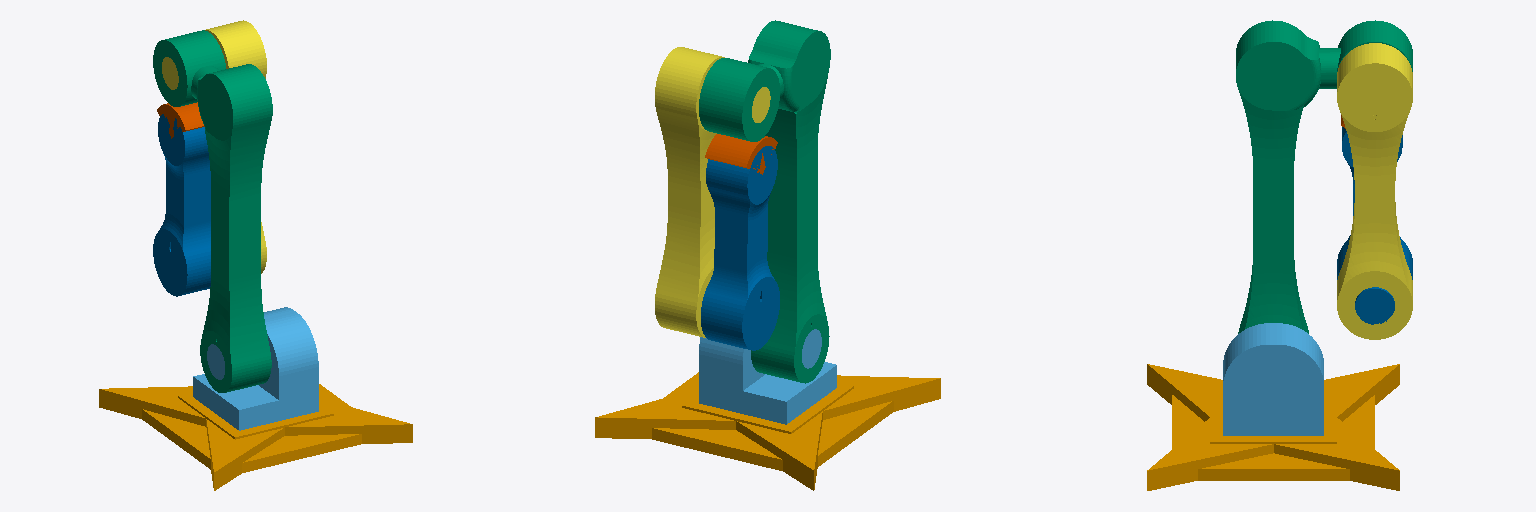
robot.urdf — arm_4dof:
<?xml version="1.0"?>
<robot name="arm_4dof">

  <!-- ================= BASE ================= -->
  <link name="base">
    <visual>
      <geometry>
        <mesh filename="4_dof_meshes/base.stl" scale="0.01 0.01 0.01"/>
      </geometry>
    </visual>

    <collision>
      <origin xyz="0.0 0.0 0.0" rpy="0 0 0"/>
      <geometry>
        <box size="3.0 3.0 0.08"/>
      </geometry>
    </collision>
  </link>

  <!-- Base → Shoulder (Yaw around Z) -->
  <joint name="joint1_base_yaw" type="revolute">
    <parent link="base"/>
    <child link="shoulder"/>
    <origin xyz="0 0 0.0" rpy="0 0 0"/>
    <axis xyz="0 0 1"/>
    <limit lower="-3.14" upper="3.14" effort="10" velocity="1"/>
  </joint>

   <!-- ================= SHOULDER ================= -->
  <link name="shoulder">
    <visual>
      <geometry>
        <mesh filename="4_dof_meshes/shoulder.stl" scale="0.01 0.01 0.01"/>
      </geometry>
    </visual>

    <collision>
      <origin xyz="0.128 0 0.25" rpy="0 0 0"/>
      <geometry>
        <box size="0.2 0.35 0.37"/>
      </geometry>
    </collision>
  </link>



  <!-- Shoulder → Arm (Pitch around X) -->
  <joint name="joint2_shoulder_pitch" type="revolute">
    <parent link="shoulder"/>
    <child link="arm"/>
    <origin xyz="0 0 0.35" rpy="0 0 0"/>
    <axis xyz="1 0 0"/>
    <limit lower="-1.57" upper="1.57" effort="10" velocity="1"/>
  </joint>

  <!-- ================= ARM ================= -->
  <link name="arm">
    <visual>
      <geometry>
        <mesh filename="4_dof_meshes/arm_trans.stl" scale="0.01 0.01 0.01"/>
      </geometry>
    </visual>

    <collision>
      <origin xyz="-0.128 0 0.65"/>
      <geometry>
        <box size="0.125 0.16 1.5"/>
      </geometry>
    </collision>
  </link>



  <!-- Arm → Forearm (Pitch around X) -->
  <joint name="joint3_elbow_pitch" type="revolute">
    <parent link="arm"/>
    <child link="forearm"/>
    <origin xyz="0 0.4 1.225" rpy="0 0 0"/>
    <axis xyz="1 0 0"/>
    <limit lower="-3.14" upper="3.14" effort="10" velocity="1"/>
  </joint>

  <!-- ================= FOREARM ================= -->
  <link name="forearm">
    <visual>
      <geometry>
        <mesh filename="4_dof_meshes/forearm_trans.stl" scale="0.01 0.01 0.01"/>
      </geometry>
    </visual>

    <collision>
      <origin xyz="0.128 0.0 -0.43" rpy="0 0 0"/>
      <geometry>
        <box size="0.1 0.25 1.15"/>
      </geometry>
    </collision>
  </link>



  <!-- Forearm → Wrist (Pitch around X) -->
  <joint name="joint4_wrist_pitch" type="revolute">
    <parent link="forearm"/>
    <child link="wrist"/>
    <origin xyz="0 0 -0.91" rpy="0 0 0"/>
    <axis xyz="1 0 0"/>
    <limit lower="-1.57" upper="1.57" effort="10" velocity="1"/>
  </joint>

  <!-- ================= WRIST ================= -->
  <link name="wrist">
    <visual>
      <geometry>
        <mesh filename="4_dof_meshes/wrist_trans.stl" scale="0.01 0.01 0.01"/>
      </geometry>
    </visual>

    <collision>
      <origin xyz="-0.15 0.0 0.3" rpy="0 0 0"/>
      <geometry>
        <box size="0.125 0.2 0.8"/>
      </geometry>
    </collision>
  </link>

  <!-- wrist → ee -->
  <joint name="wrist_ee" type="fixed">
    <parent link="wrist"/>
    <child link="end_effector"/>
    <origin xyz="0 -0.01 0.6" rpy="0 0 0"/>
    <axis xyz="1 0 0"/>
  </joint>

  <!-- ================= EE ================= -->
  <link name="end_effector">
    <visual>
      <geometry>
        <mesh filename="4_dof_meshes/end_effector_trans.stl" scale="0.01 0.01 0.01"/>
      </geometry>
    </visual>
  </link>




</robot>

--- Render facts (derived) ---
The picture shows the robot from 3 angles, left to right: view 1: azimuth 30°, elevation 25°; view 2: azimuth 150°, elevation 25°; view 3: azimuth 270°, elevation 25°; orthographic projection.
Model arm_4dof with 6 links and 5 joints (4 revolute, 1 fixed), rooted at base, posed all joints at 0.
Links seen in each view (by area): view 1: arm, base, wrist, shoulder, forearm, end_effector; view 2: arm, base, forearm, wrist, shoulder, end_effector; view 3: arm, base, forearm, shoulder, wrist.
Link boxes in pixels (x1,y1,x2,y2): arm: (153, 30, 272, 392); base: (99, 384, 412, 490); wrist: (153, 114, 210, 296); shoulder: (193, 307, 318, 430); forearm: (162, 20, 266, 273); end_effector: (157, 102, 204, 138); arm: (699, 20, 830, 383); base: (595, 372, 940, 490); forearm: (655, 47, 770, 337); wrist: (701, 146, 779, 350); shoulder: (699, 329, 836, 424); end_effector: (705, 134, 777, 174); arm: (1236, 20, 1412, 333); base: (1147, 364, 1399, 490); forearm: (1337, 43, 1412, 339); shoulder: (1223, 323, 1323, 435); wrist: (1337, 127, 1412, 324).
Size in the robot's own frame: 1 by 1.05 by 1.73 metres.
6 mesh visuals loaded from 6 distinct referenced files (6 binary STL).